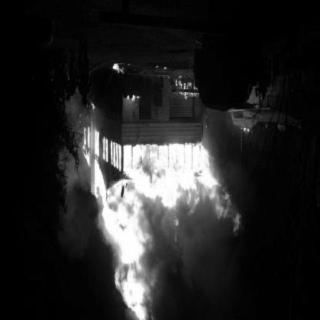Fire: (75, 119, 238, 318), (103, 57, 199, 117)
